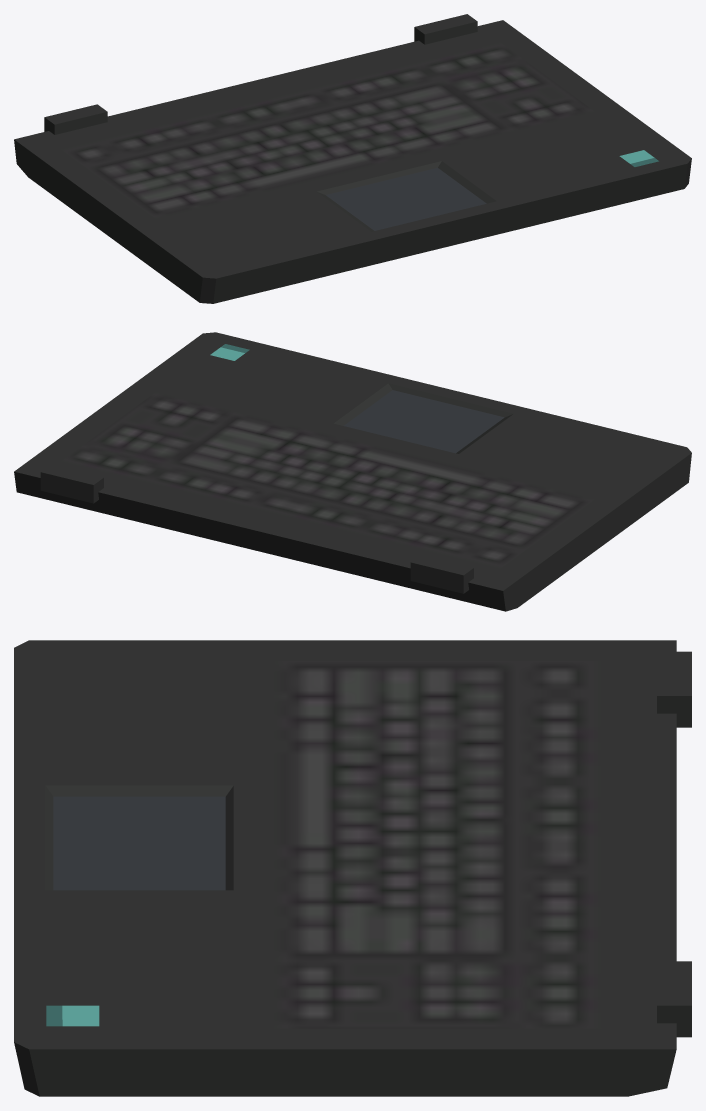
The model's file is SM_Prop_Computer_Laptop_03.obj.
3 renders of one model, top to bottom at view 1: azimuth 30°, elevation 25°; view 2: azimuth 150°, elevation 25°; view 3: azimuth 270°, elevation 25°, orthographic. The views are drawn at different scales.
Parts seen in each view (by area): view 1: SM_Prop_Computer_Laptop_03_0; view 2: SM_Prop_Computer_Laptop_03_0; view 3: SM_Prop_Computer_Laptop_03_0.
Boxes of the visible parts, x1,y1,x2,y2 form: SM_Prop_Computer_Laptop_03_0: (14,14,691,303); SM_Prop_Computer_Laptop_03_0: (14,332,691,611); SM_Prop_Computer_Laptop_03_0: (14,640,691,1096).
Bounding box in the file's own units: 0.5193 × 0.0385 × 0.3636.
Materials: 1 (1 with a texture image).
